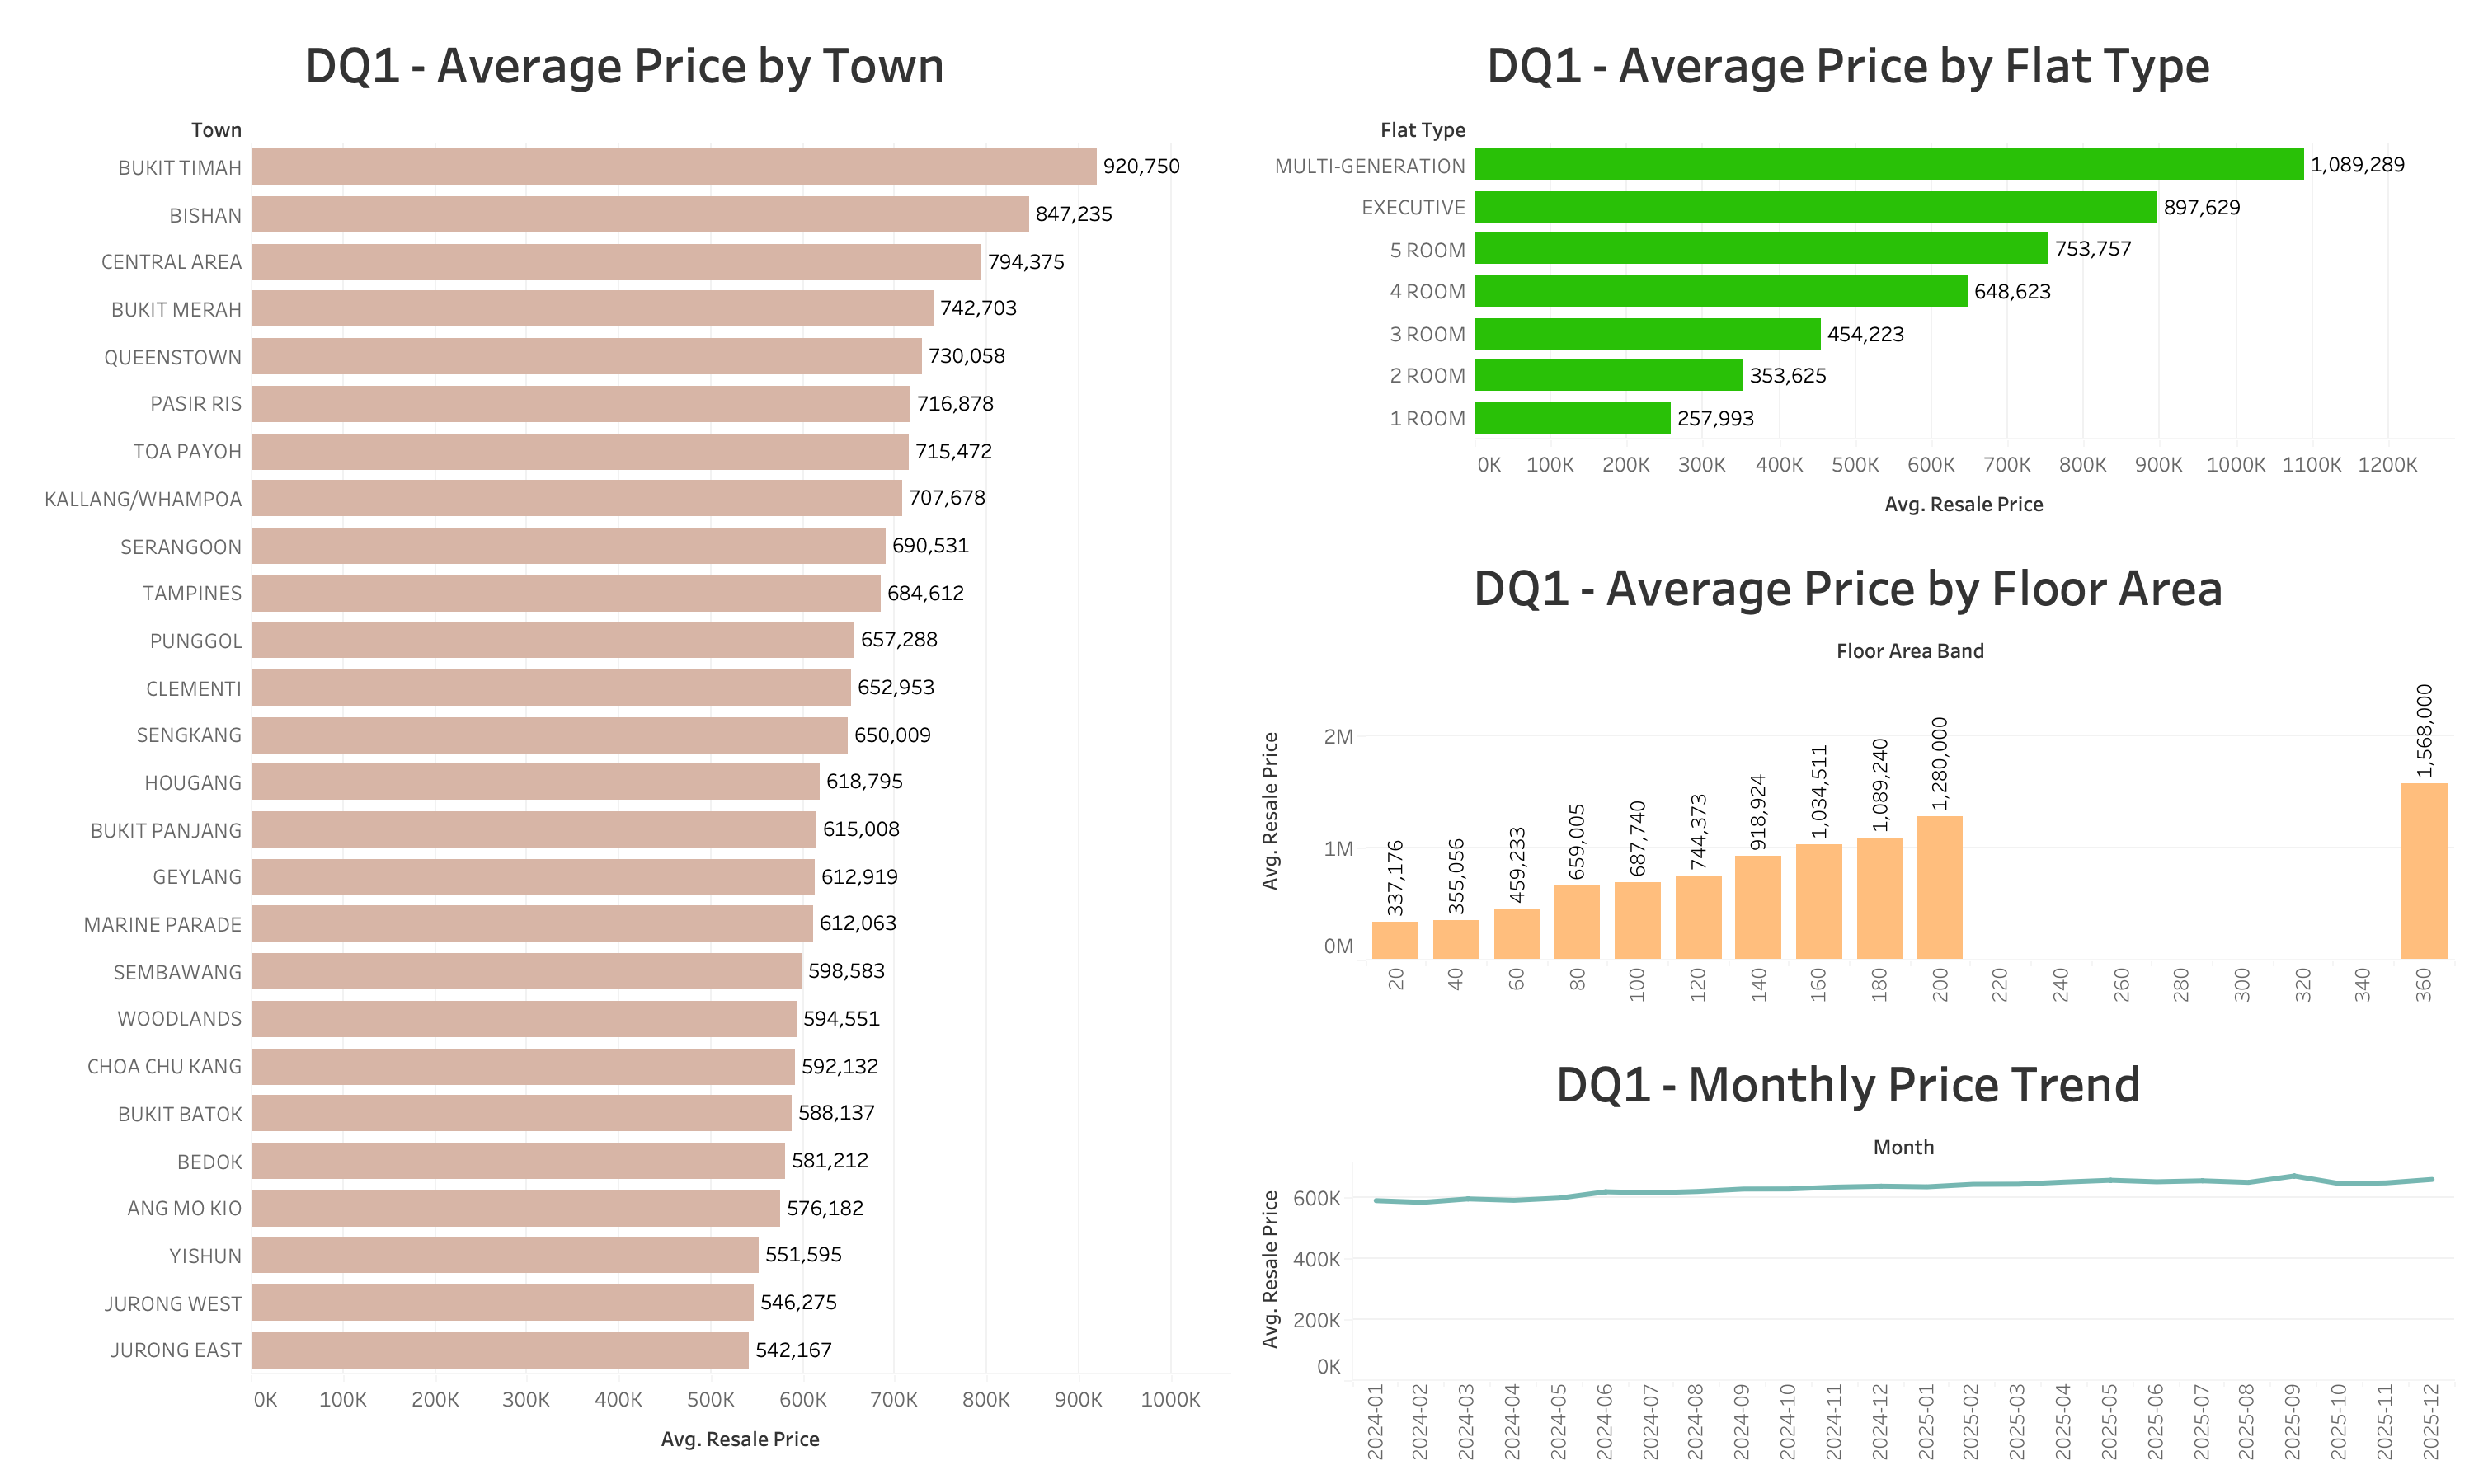

The dashboard page shown, as its layout file describes it:
{"tool":"tableau","page":{"name":"DQ1 - Historical Price Analysis","canvas":[1500,900],"ordinal":3},"visuals":[{"type":"worksheet","title":"DQ1 - Average Price by Town","mark":"Automatic","rows":["town"],"cols":["resale_price"],"box":[8,8,742,884]},{"type":"worksheet","title":"DQ1 - Average Price by Flat Type","mark":"Bar","rows":["flat_type"],"cols":["resale_price"],"box":[750,8,742,316.8]},{"type":"worksheet","title":"DQ1 - Average Price by Floor Area","mark":"Bar","rows":["resale_price"],"cols":["Floor Area Sqm (bin)"],"box":[750,324.8,742,301.2]},{"type":"worksheet","title":"DQ1 - Monthly Price Trend","mark":"Line","rows":["resale_price"],"cols":["month"],"box":[750,626,742,266]}]}

Visuals, with their boxes in screenshot pixels (x1, y1, x2, y2), scaled from the page's 1500x900 canvas onto the 2474x1484 screenshot:
"DQ1 - Average Price by Town" worksheet: box=[13, 13, 1237, 1471]
"DQ1 - Average Price by Flat Type" worksheet (Bar marks): box=[1237, 13, 2461, 536]
"DQ1 - Average Price by Floor Area" worksheet (Bar marks): box=[1237, 536, 2461, 1032]
"DQ1 - Monthly Price Trend" worksheet (Line marks): box=[1237, 1032, 2461, 1471]
